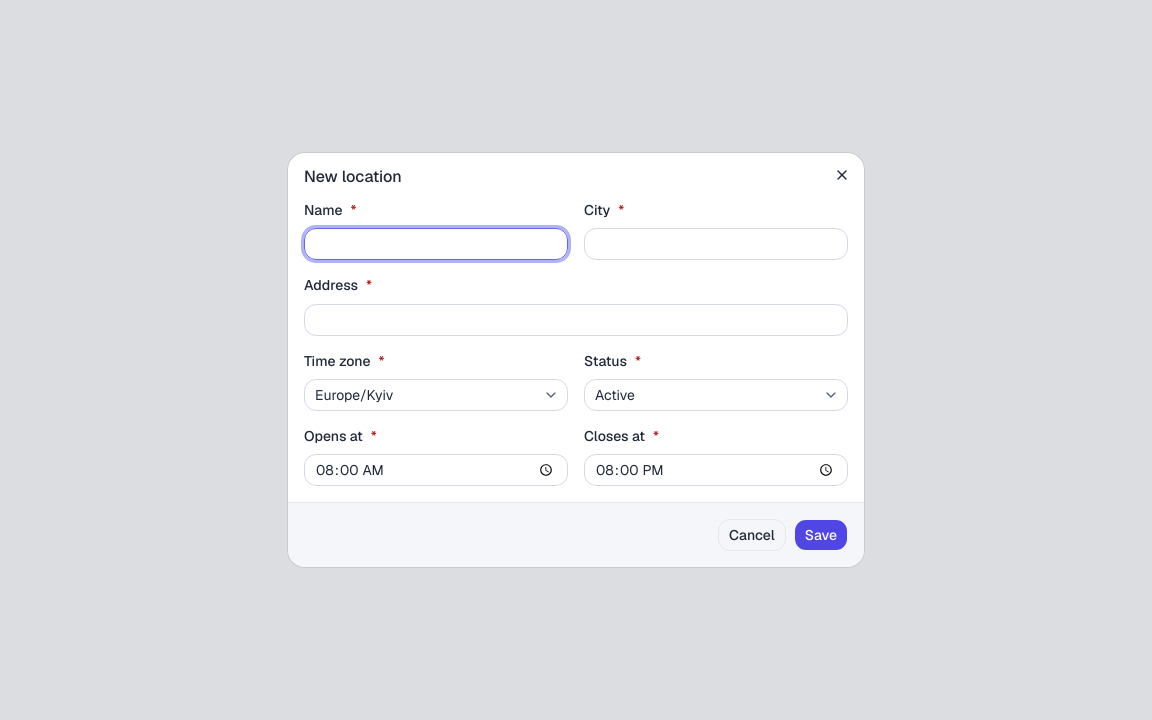
LocationFormDialog: creating › wants the closing time after the opening time
Type "Garden Annex" into the field labelled "Name *" at (436, 244), box 304,228 -> 568,260
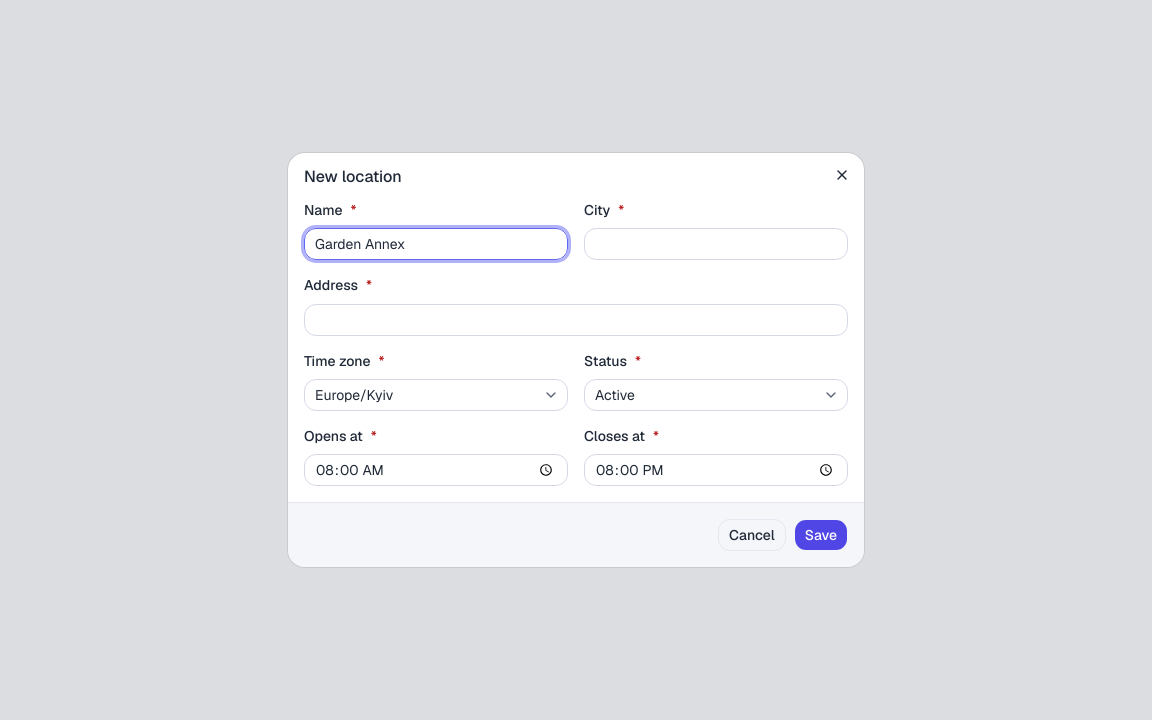
Type "Vienna" into the field labelled "City *" at (716, 244), box 584,228 -> 848,260
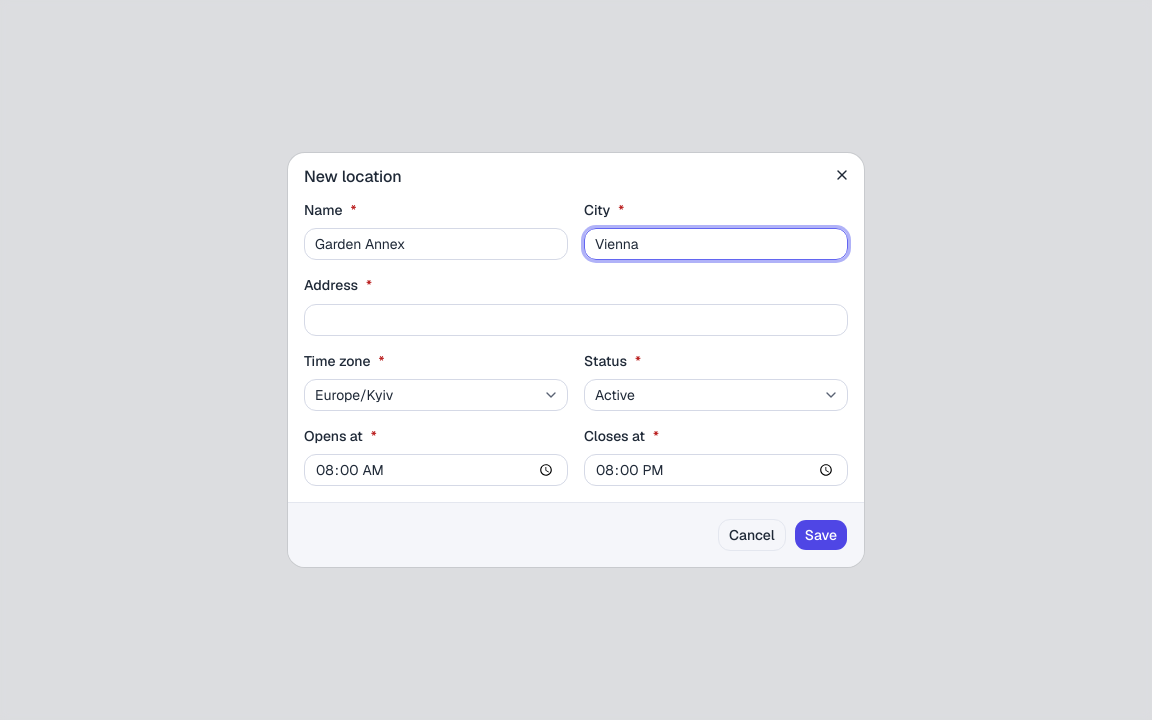
Type "5 Ring Strasse" into the field labelled "Address *" at (576, 320), box 304,304 -> 848,336
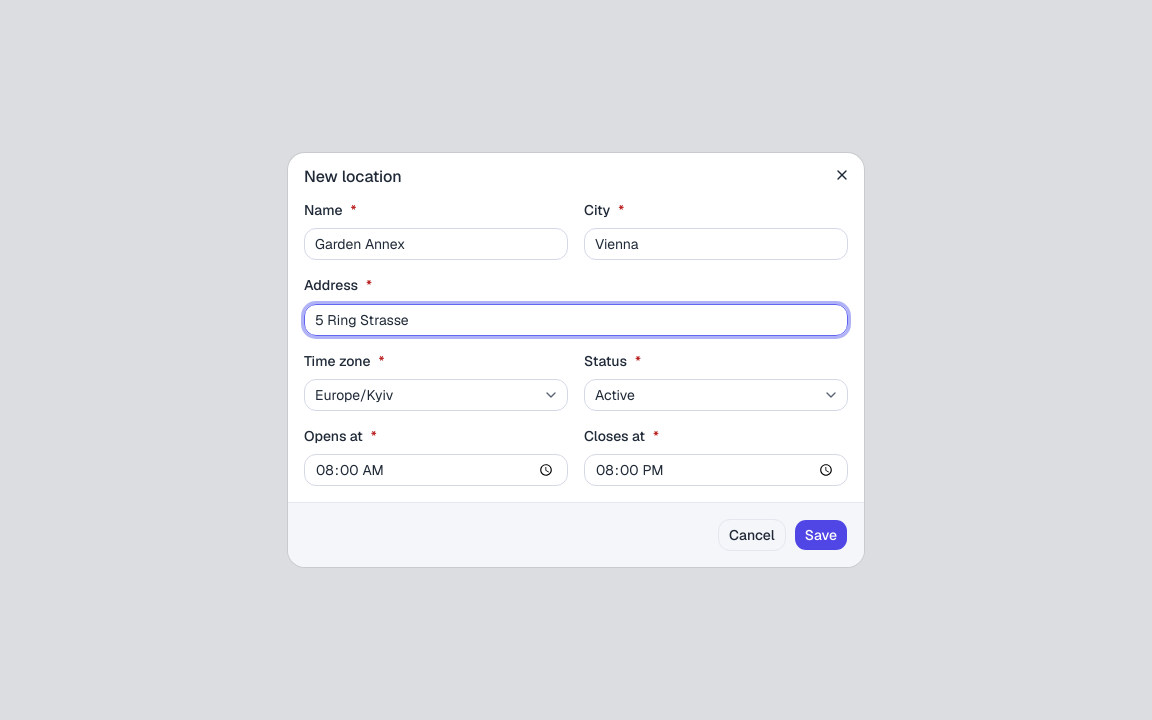
Replace the text in the time field labelled "Closes at *" with "07:00" at (716, 470), box 584,454 -> 848,486
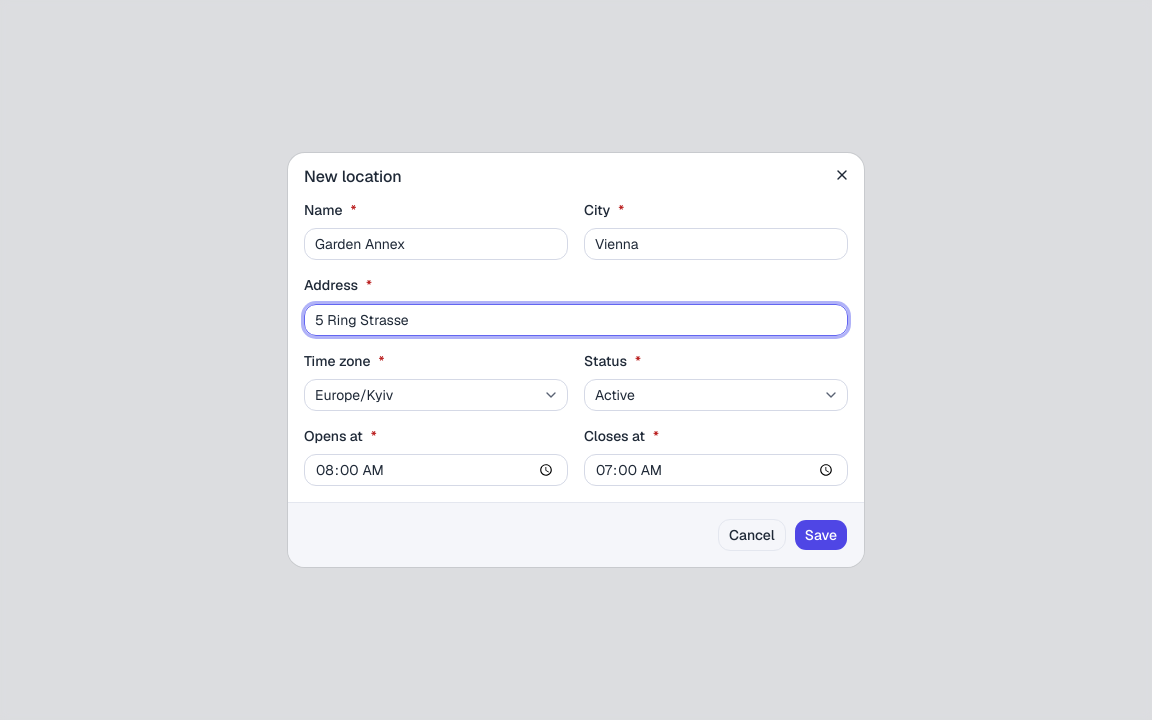
Click the button "Save" at (821, 535), box 794,519 -> 848,551
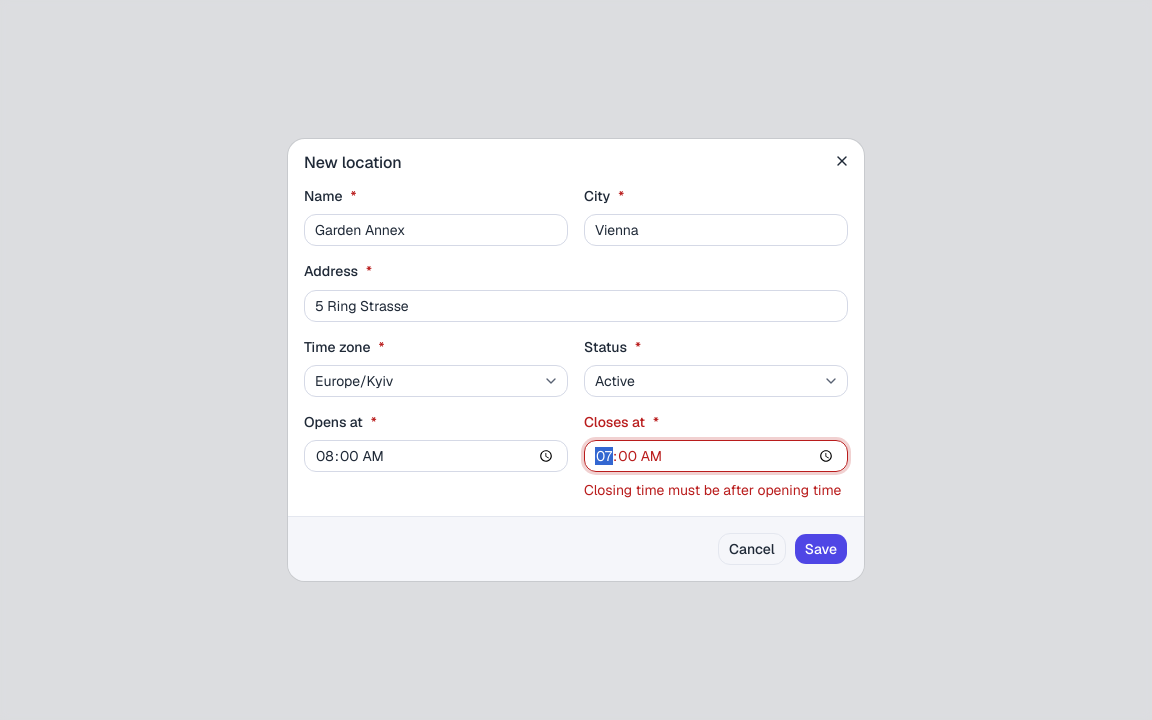
Result: the text "Closing time must be after opening time" is shown at 584,480 -> 848,500
